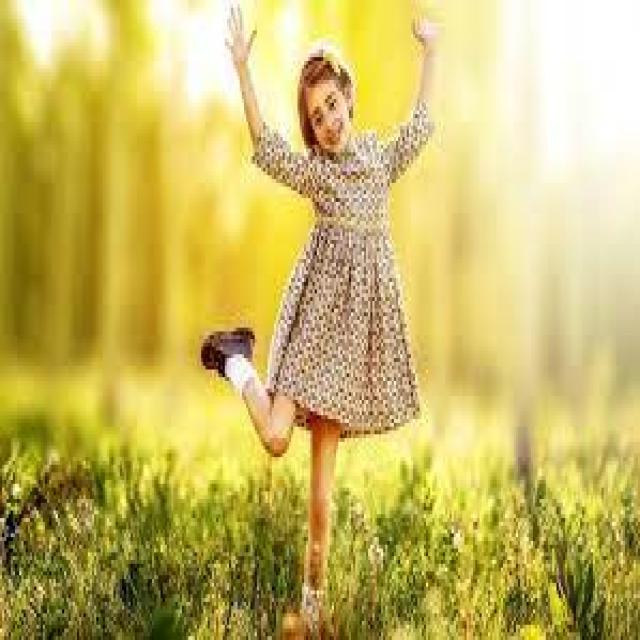Edited images: (198, 12, 432, 616)
